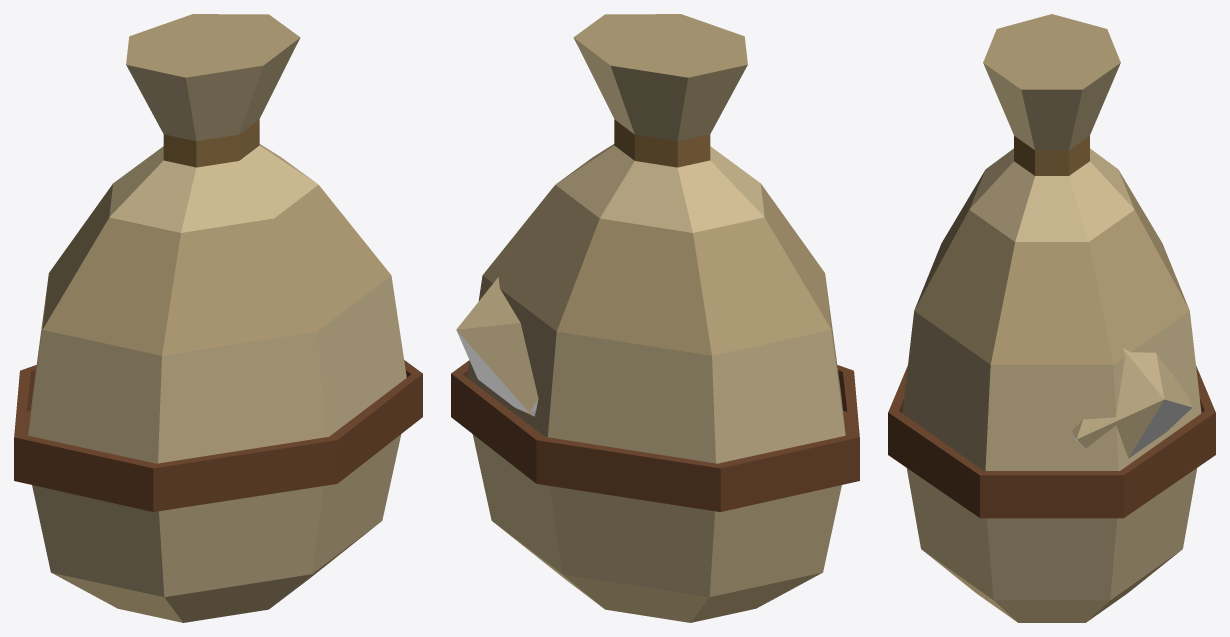
Rendered from sack_back.glb.
3 views of the same model, side by side, from view 1: azimuth 30°, elevation 25°; view 2: azimuth 150°, elevation 25°; view 3: azimuth 270°, elevation 25° (orthographic). The views are drawn at different scales.
Parts seen in each view (by area): view 1: sack_back; view 2: sack_back; view 3: sack_back.
Boxes of the visible parts, x1,y1,x2,y2 form: sack_back: [14, 14, 422, 622]; sack_back: [451, 14, 859, 622]; sack_back: [888, 14, 1215, 622].
Bounding box in the file's own units: 0.4453 × 0.62 × 0.3476.
